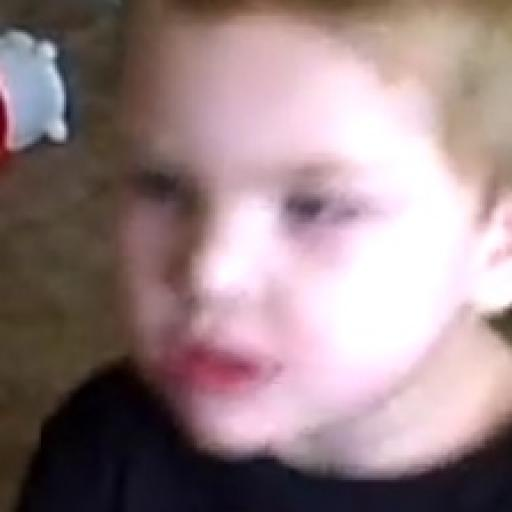Autism: (77, 13, 491, 471)
